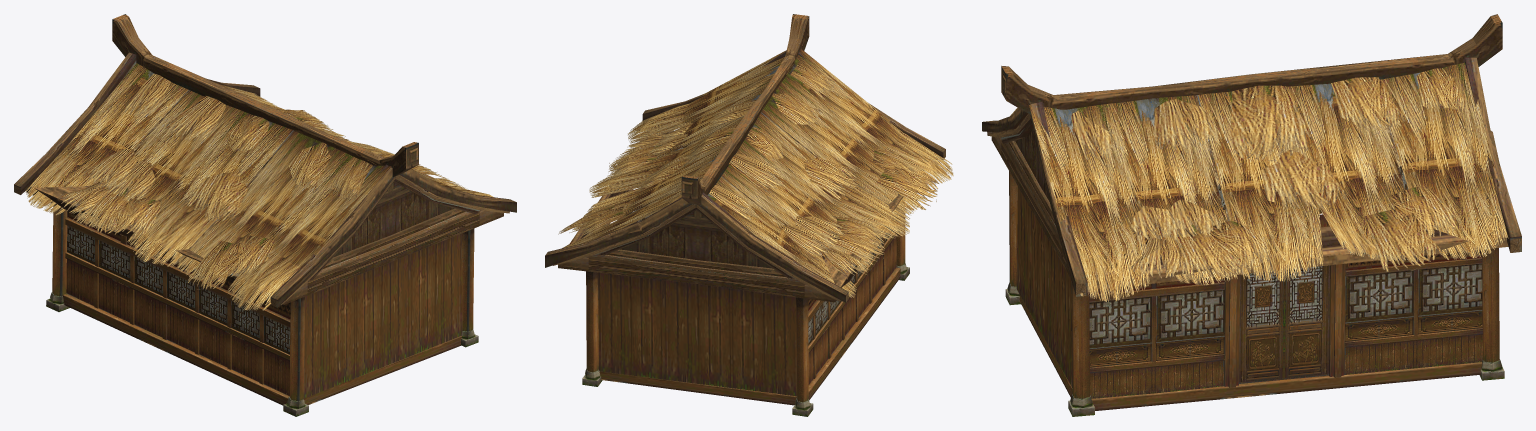
Rendered from 1004_Item_caofang_4_1.FBX.
3 renders of one model, left to right at view 1: azimuth 30°, elevation 25°; view 2: azimuth 150°, elevation 25°; view 3: azimuth 270°, elevation 25°, orthographic. The views are drawn at different scales.
Visible parts, largest first — view 1: 1004_Item_caofang_4_1; view 2: 1004_Item_caofang_4_1; view 3: 1004_Item_caofang_4_1.
Boxes of the visible parts, x1,y1,x2,y2 form: 1004_Item_caofang_4_1: (14,14,516,416); 1004_Item_caofang_4_1: (545,14,953,416); 1004_Item_caofang_4_1: (982,14,1521,416).
Size of the model in its own units: 978 by 1048 by 639.
Materials: 2 (2 with a texture image).
